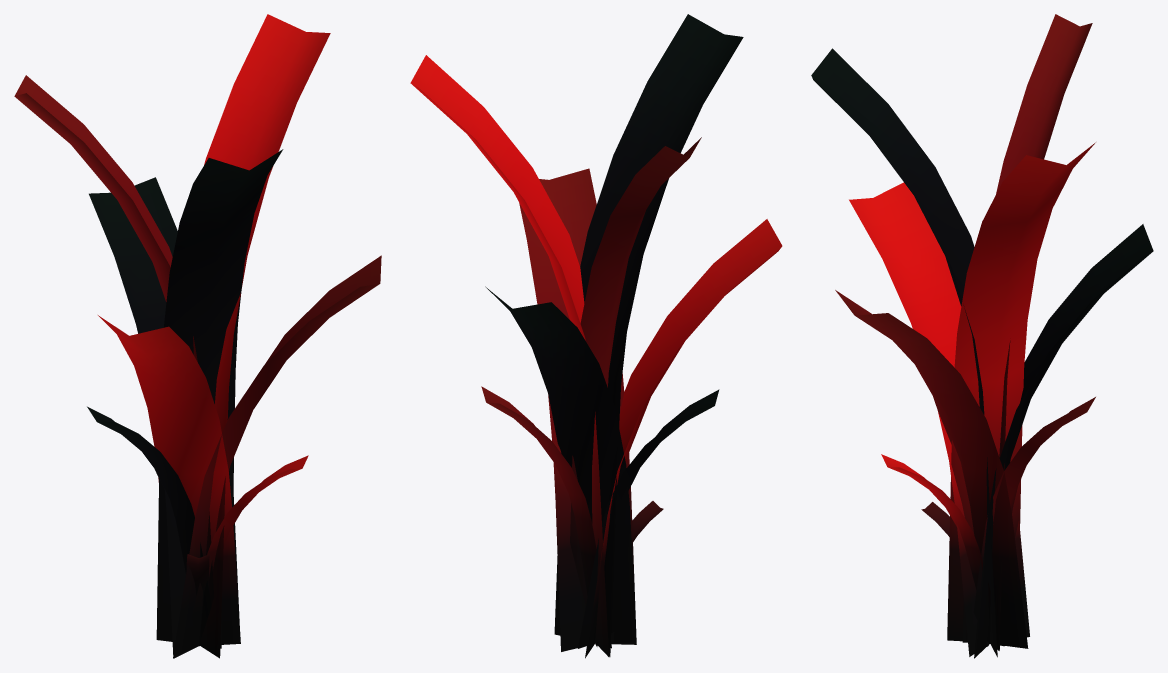
File: PalmPlant01_AFS_high.FBX
3 renders of one model, left to right at view 1: azimuth 30°, elevation 25°; view 2: azimuth 150°, elevation 25°; view 3: azimuth 270°, elevation 25°, orthographic.
Visible parts, largest first — view 1: PalmPlant01_AFS_high; view 2: PalmPlant01_AFS_high; view 3: PalmPlant01_AFS_high.
Part boxes in pixels (x1,y1,x2,y2): PalmPlant01_AFS_high: (14,14,381,658); PalmPlant01_AFS_high: (410,14,782,658); PalmPlant01_AFS_high: (811,14,1153,658).
Bounding box in the file's own units: 1 × 1.85 × 1.02.
